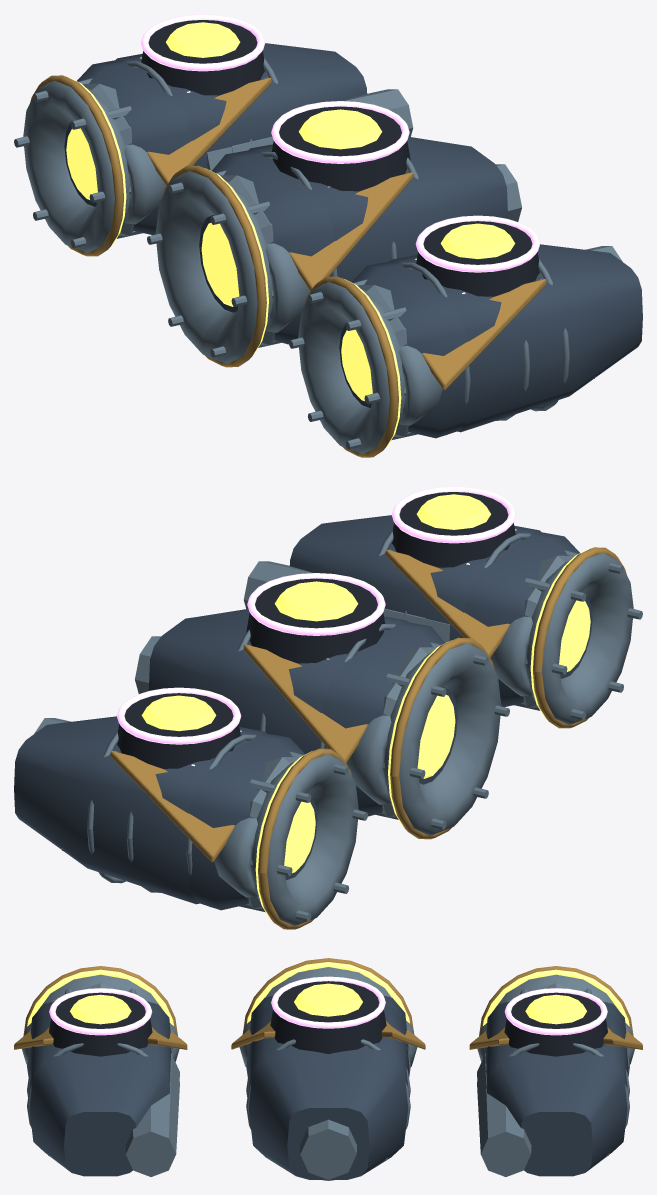
Rendered from engine.glb.
The picture shows the model from 3 angles, top to bottom: view 1: azimuth 30°, elevation 25°; view 2: azimuth 150°, elevation 25°; view 3: azimuth 270°, elevation 25°; orthographic projection. The views are drawn at different scales.
Visible parts, largest first — view 1: e_twin Fitting gunmetal, e_nova Brushed fitting edges, e_nova Fitting gunmetal, e_nova Champagne gold edging, e_fusion Machined graphite, e_twin Brushed fitting edges, e_fusion Fusion amber core, e_nova e_nova emitter, e_fusion e_fusion emitter, e_fusion Brushed fitting edges, e_ion Brushed fitting edges; view 2: e_twin Fitting gunmetal, e_nova Brushed fitting edges, e_nova Fitting gunmetal, e_nova Champagne gold edging, e_fusion Machined graphite, e_twin Brushed fitting edges, e_fusion Fusion amber core, e_nova e_nova emitter, e_fusion e_fusion emitter, e_fusion Brushed fitting edges, e_ion Brushed fitting edges; view 3: e_twin Fitting gunmetal, e_fusion Machined graphite, e_twin Brushed fitting edges, e_nova Champagne gold edging, e_fusion Fusion amber core, e_fusion e_fusion emitter, e_nova Brushed fitting edges, e_nova e_nova emitter, e_ion Brushed fitting edges, e_nova Fitting gunmetal.
Boxes of the visible parts, <box> form: e_twin Fitting gunmetal: <box>115,43,642,432</box>; e_nova Brushed fitting edges: <box>14,78,417,454</box>; e_nova Fitting gunmetal: <box>64,60,467,438</box>; e_nova Champagne gold edging: <box>30,75,546,457</box>; e_fusion Machined graphite: <box>141,20,539,296</box>; e_twin Brushed fitting edges: <box>124,77,622,425</box>; e_fusion Fusion amber core: <box>166,22,515,259</box>; e_nova e_nova emitter: <box>66,77,401,446</box>; e_fusion e_fusion emitter: <box>141,14,539,272</box>; e_fusion Brushed fitting edges: <box>82,83,595,436</box>; e_ion Brushed fitting edges: <box>126,57,569,435</box>; e_twin Fitting gunmetal: <box>14,515,541,904</box>; e_nova Brushed fitting edges: <box>239,550,642,926</box>; e_nova Fitting gunmetal: <box>189,532,592,910</box>; e_nova Champagne gold edging: <box>110,547,626,929</box>; e_fusion Machined graphite: <box>117,492,515,768</box>; e_twin Brushed fitting edges: <box>34,549,532,897</box>; e_fusion Fusion amber core: <box>141,494,490,731</box>; e_nova e_nova emitter: <box>255,549,590,918</box>; e_fusion e_fusion emitter: <box>117,486,515,744</box>; e_fusion Brushed fitting edges: <box>61,555,574,908</box>; e_ion Brushed fitting edges: <box>87,529,530,907</box>; e_twin Fitting gunmetal: <box>28,1006,628,1179</box>; e_fusion Machined graphite: <box>49,981,607,1056</box>; e_twin Brushed fitting edges: <box>22,1020,634,1179</box>; e_nova Champagne gold edging: <box>14,958,642,1049</box>; e_fusion Fusion amber core: <box>70,983,586,1024</box>; e_fusion e_fusion emitter: <box>49,976,607,1035</box>; e_nova Brushed fitting edges: <box>38,967,618,1080</box>; e_nova e_nova emitter: <box>27,962,629,1026</box>; e_ion Brushed fitting edges: <box>27,1039,629,1180</box>; e_nova Fitting gunmetal: <box>29,995,627,1054</box>.
Bounding box in the file's own units: 15.81 × 9.9 × 33.14.
